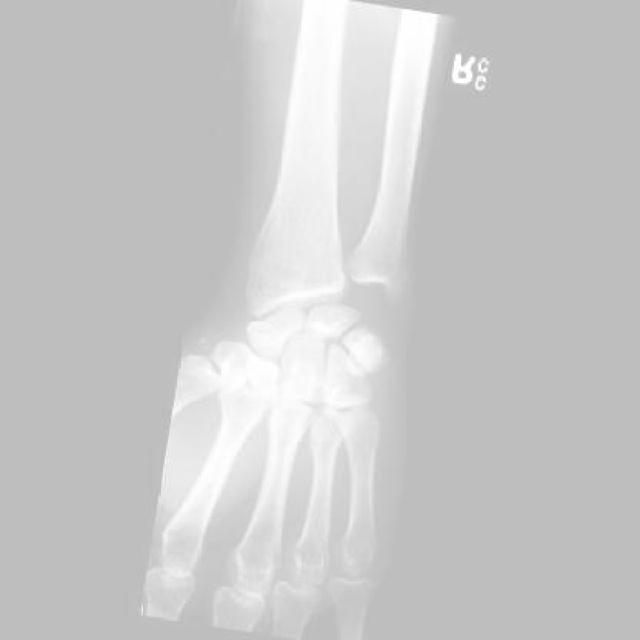Fracture: (260, 316, 296, 342)
